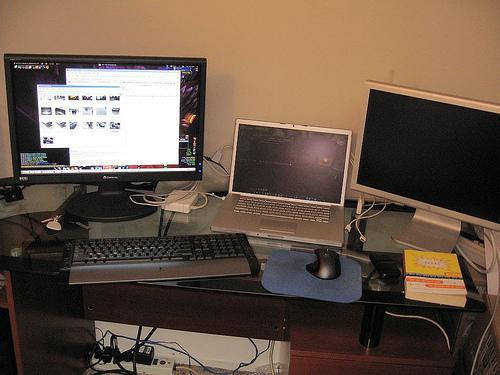tv: (6, 52, 203, 194), (359, 81, 496, 235), (234, 118, 344, 244)
